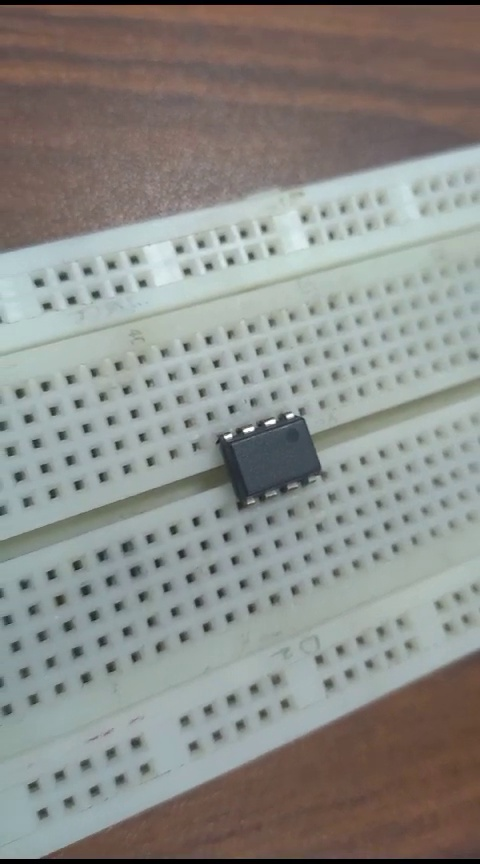IC: (199, 403, 332, 507)
